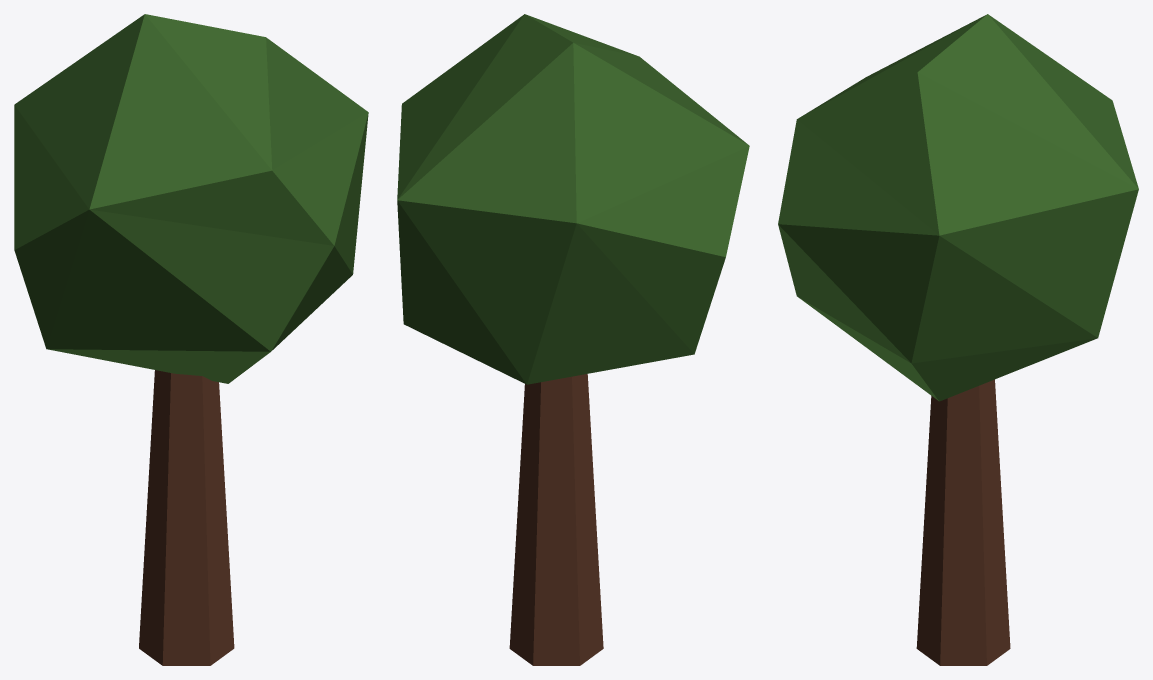
Rendered from tree.fbx.
3 views of the same model, side by side, from view 1: azimuth 30°, elevation 25°; view 2: azimuth 150°, elevation 25°; view 3: azimuth 270°, elevation 25° (orthographic).
Visible parts, largest first — view 1: Cylinder; view 2: Cylinder; view 3: Cylinder.
Boxes of the visible parts, box(x1,y1,x2,y2) form: Cylinder: box(14, 14, 368, 665); Cylinder: box(397, 14, 749, 665); Cylinder: box(778, 14, 1138, 665).
Size of the model in its own units: 207 by 366 by 193.
